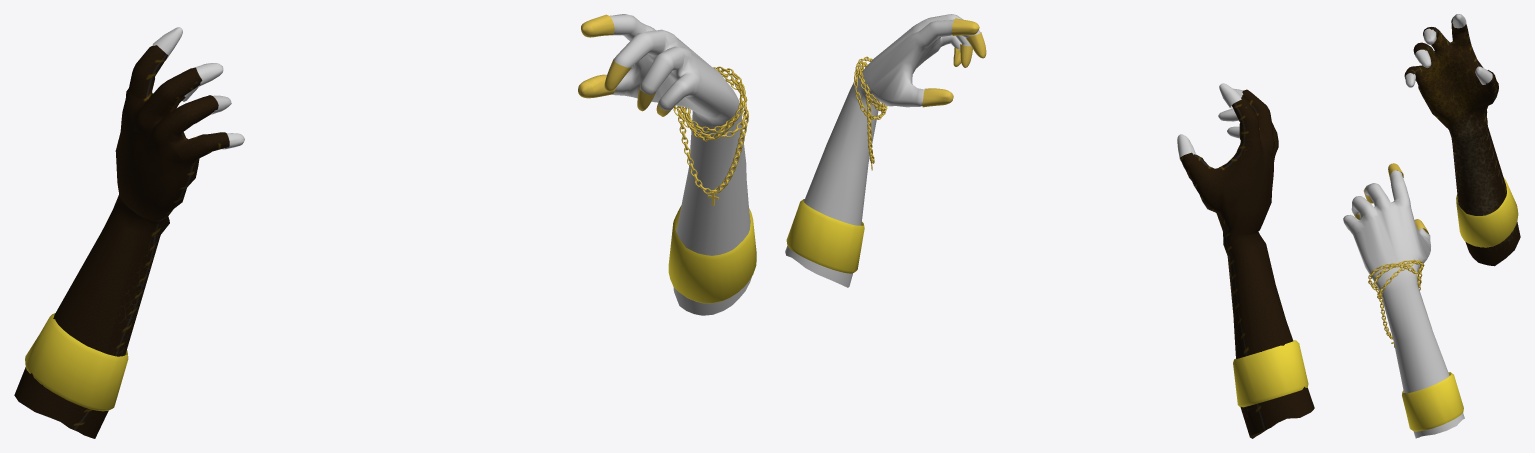
Rendered from Hands.fbx.
3 views of the same model, side by side, from view 1: azimuth 30°, elevation 25°; view 2: azimuth 150°, elevation 25°; view 3: azimuth 270°, elevation 25° (orthographic). The views are drawn at different scales.
Parts seen in each view (by area): view 1: L.Glove LP, R. Glove LP, ArmBand.L, ArmBand.R, Crucifix.001, R.Fingertips, L.Fingertips; view 2: L.Glove LP, R. Glove LP, ArmBand.R, ArmBand.L, R.Fingertips, Crucifix.001, L.Fingertips; view 3: R. Glove LP, L.Glove LP, ArmBand.R, ArmBand.L, L.Fingertips, Crucifix.001, R.Fingertips.
Boxes of the visible parts, box(x1,y1,x2,y2) form: L.Glove LP: box(14, 45, 229, 438); R. Glove LP: box(605, 14, 751, 315); ArmBand.L: box(25, 313, 128, 411); ArmBand.R: box(668, 205, 756, 303); Crucifix.001: box(673, 66, 748, 205); R.Fingertips: box(578, 14, 674, 116); L.Fingertips: box(152, 27, 244, 149); L.Glove LP: box(1180, 89, 1314, 438); R. Glove LP: box(785, 14, 980, 287); ArmBand.R: box(786, 199, 864, 273); ArmBand.L: box(1233, 340, 1308, 407); R.Fingertips: box(922, 18, 986, 107); Crucifix.001: box(853, 56, 887, 170); L.Fingertips: box(1177, 83, 1243, 160); R. Glove LP: box(1343, 170, 1464, 438); L.Glove LP: box(1404, 17, 1520, 266); ArmBand.R: box(1402, 372, 1463, 431); ArmBand.L: box(1456, 178, 1518, 247); L.Fingertips: box(1405, 14, 1492, 87); Crucifix.001: box(1368, 259, 1424, 347); R.Fingertips: box(1347, 163, 1428, 233).
Size of the model in its own units: 75.24 by 42.42 by 25.01.
